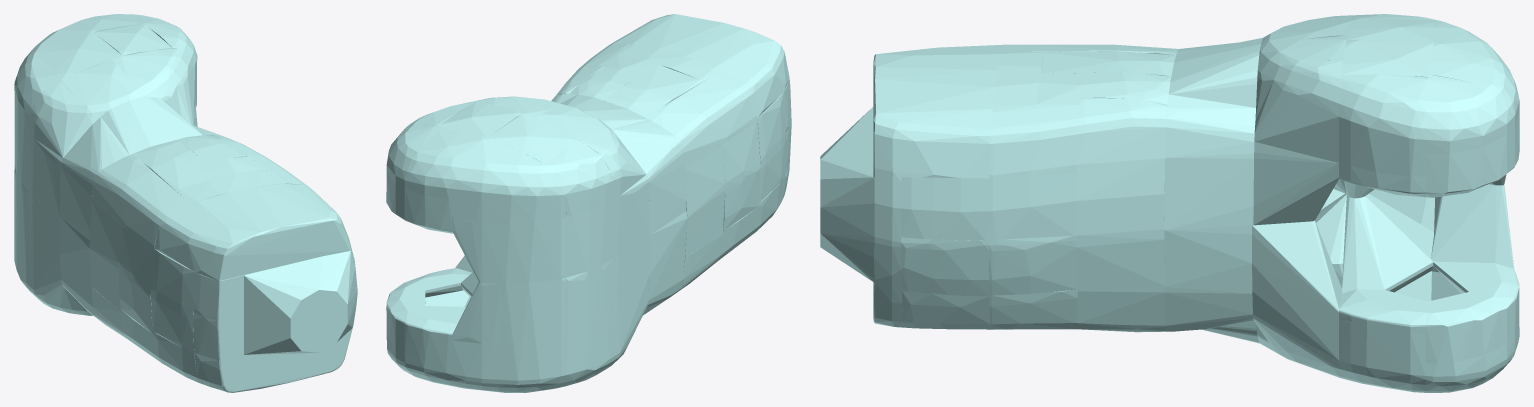
Rendered from L_SHOULDER_Y_LINK_mesh.dae.
3 views of the same model, side by side, from view 1: azimuth 30°, elevation 25°; view 2: azimuth 150°, elevation 25°; view 3: azimuth 270°, elevation 25° (orthographic). The views are drawn at different scales.
Parts seen in each view (by area): view 1: L_SHOULDER_Y_LINK; view 2: L_SHOULDER_Y_LINK; view 3: L_SHOULDER_Y_LINK.
Part boxes in pixels (x1=…): L_SHOULDER_Y_LINK: x1=14, y1=14, x2=357, y2=392; L_SHOULDER_Y_LINK: x1=386, y1=14, x2=791, y2=392; L_SHOULDER_Y_LINK: x1=820, y1=14, x2=1519, y2=392.
Bounding box in the file's own units: 0.1129 × 0.1306 × 0.2636.
